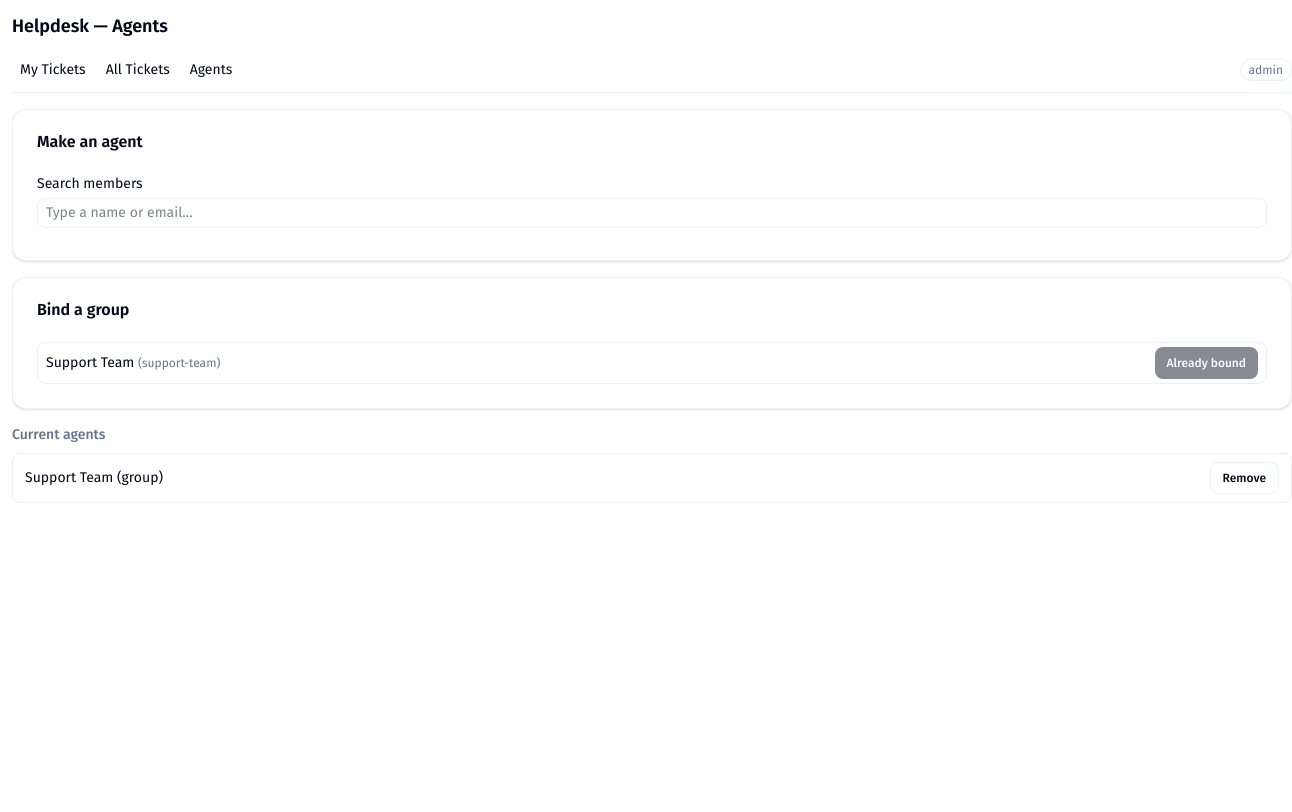
AgentsAdminPage › removes a group binding via the unambiguous group-revoke route
Expected: the list item with test id "helpdesk-agent-group-1" is shown, [12,453,1291,503]
Click the button with test id "helpdesk-remove-agent-group-1" at (1244, 478), box [1210,462,1279,494]
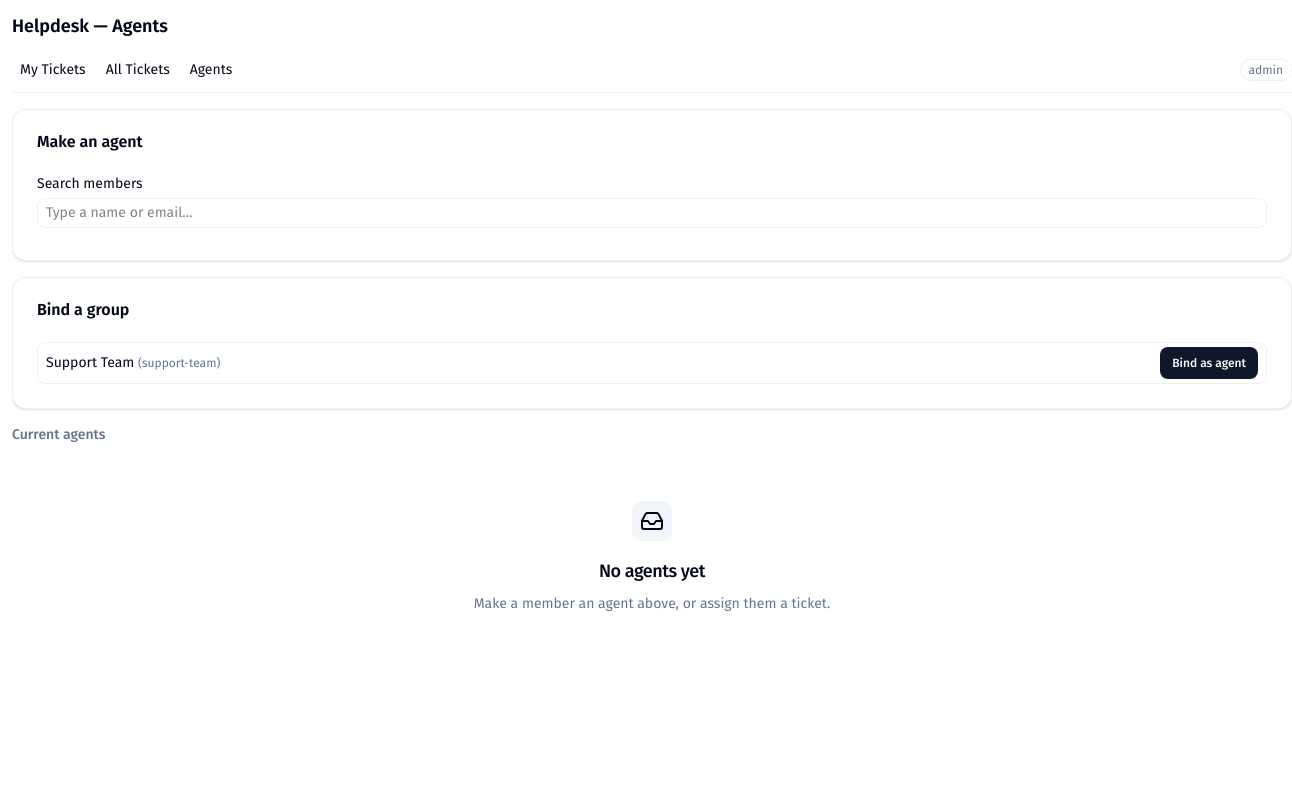
Result: the list item with test id "helpdesk-agent-group-1" is gone
